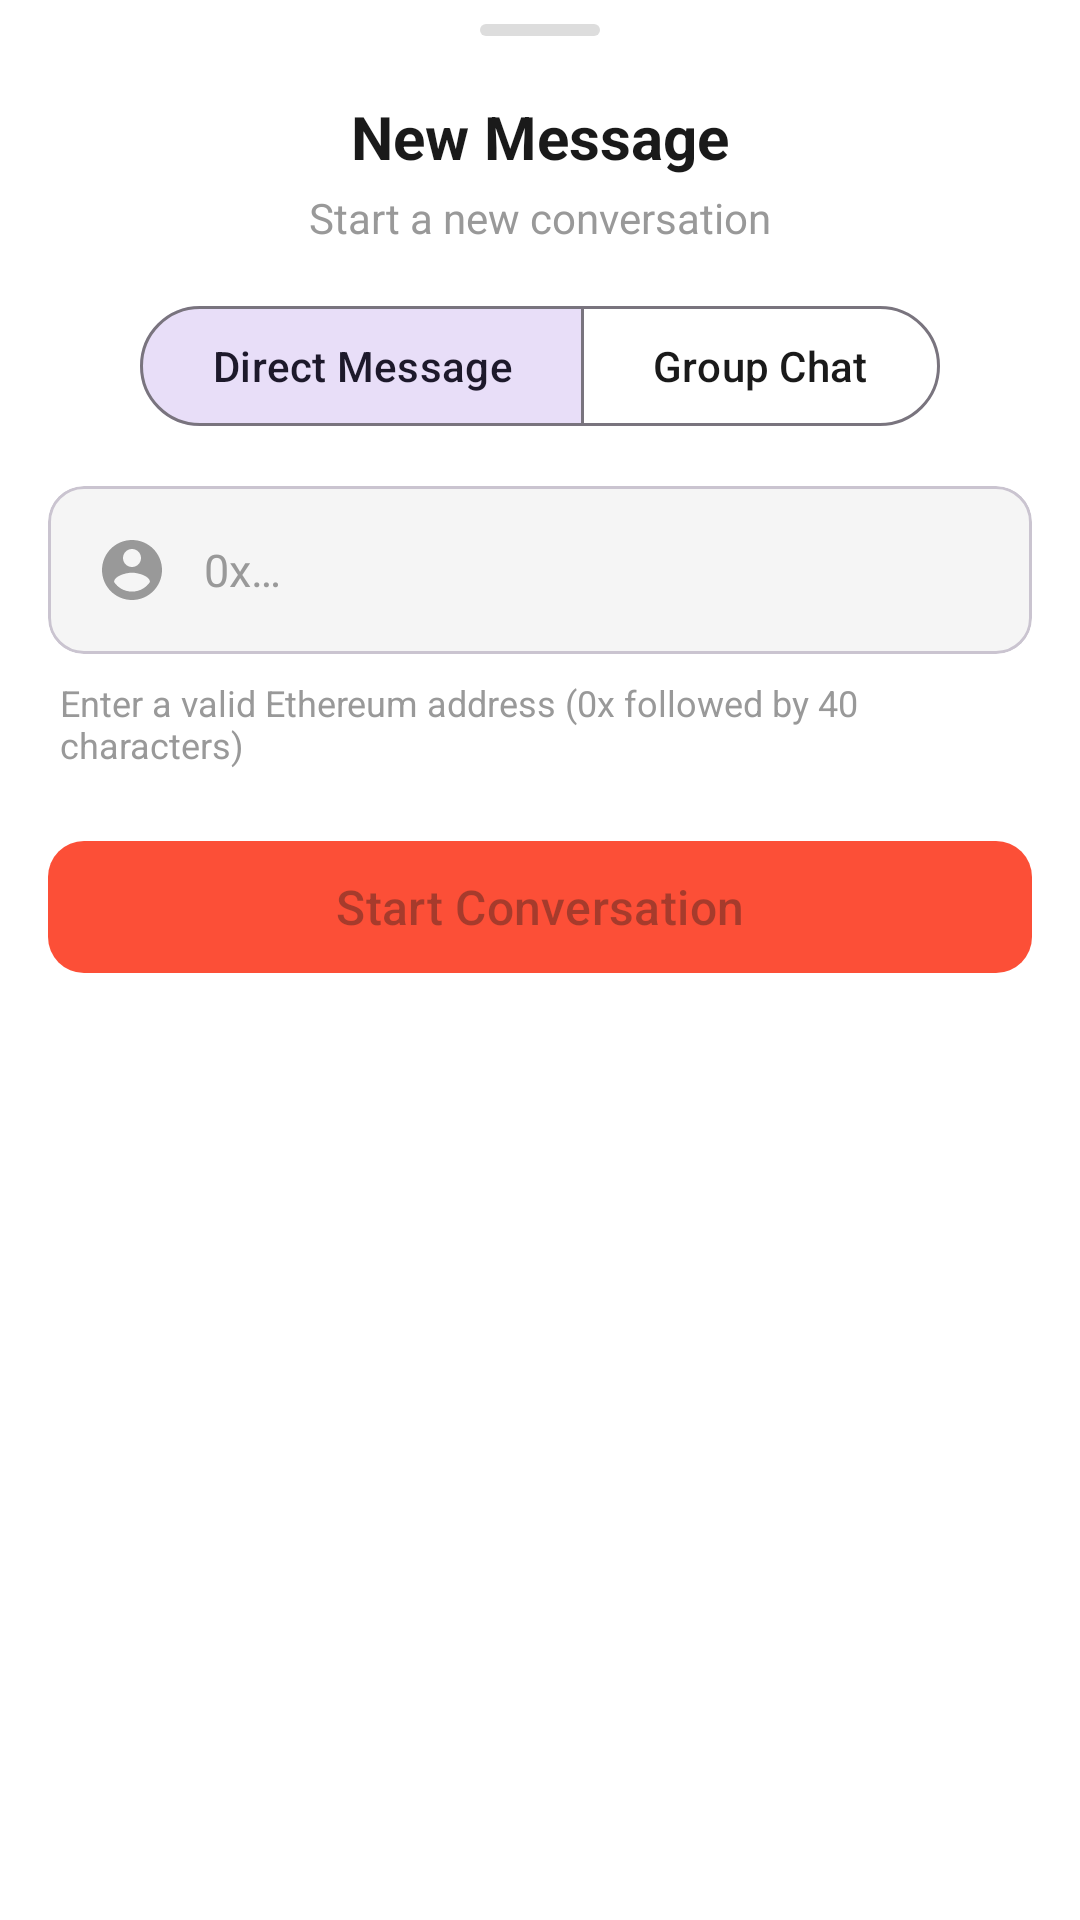

Where to tap for icons on this 1080×1920 app screen, as (x,y):
account circle: (132,570)
